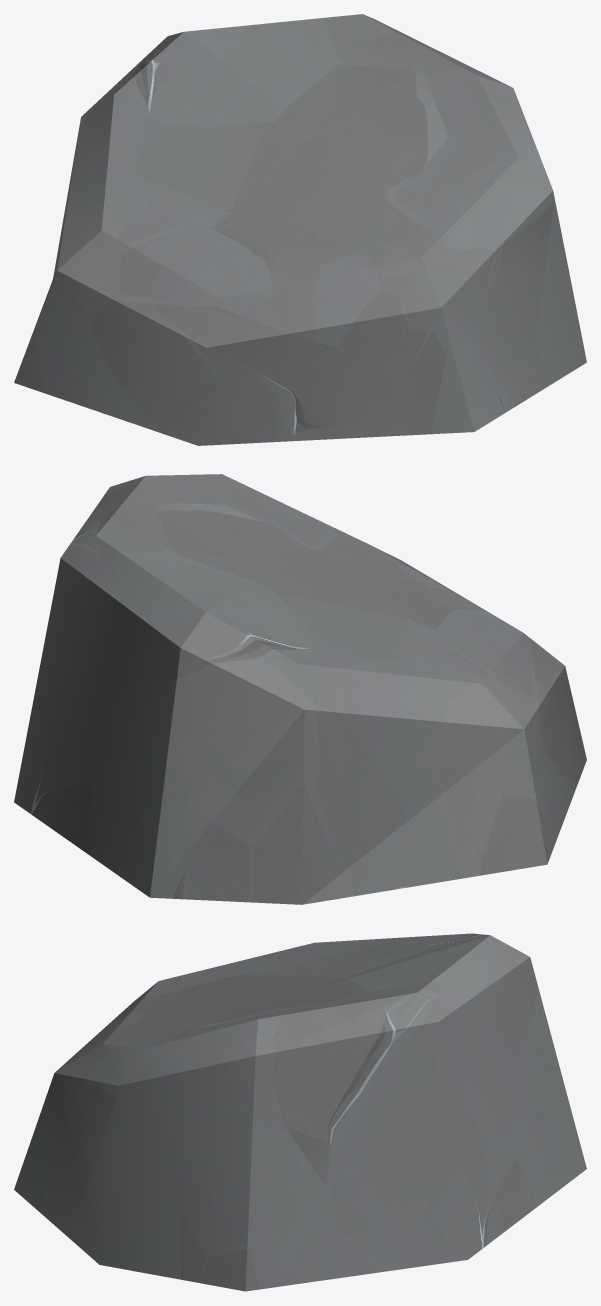
File: SmallRock.FBX
3 views of the same model, one above another, from view 1: azimuth 30°, elevation 25°; view 2: azimuth 150°, elevation 25°; view 3: azimuth 270°, elevation 25° (orthographic). The views are drawn at different scales.
Visible parts, largest first — view 1: caveroom_smallrock01; view 2: caveroom_smallrock01; view 3: caveroom_smallrock01.
Boxes of the visible parts, left/top/right/bottom form: caveroom_smallrock01: left=14, top=14, right=586, bottom=445; caveroom_smallrock01: left=14, top=474, right=586, bottom=904; caveroom_smallrock01: left=14, top=933, right=586, bottom=1291.
Size of the model in its own units: 40.25 by 18.71 by 40.11.
